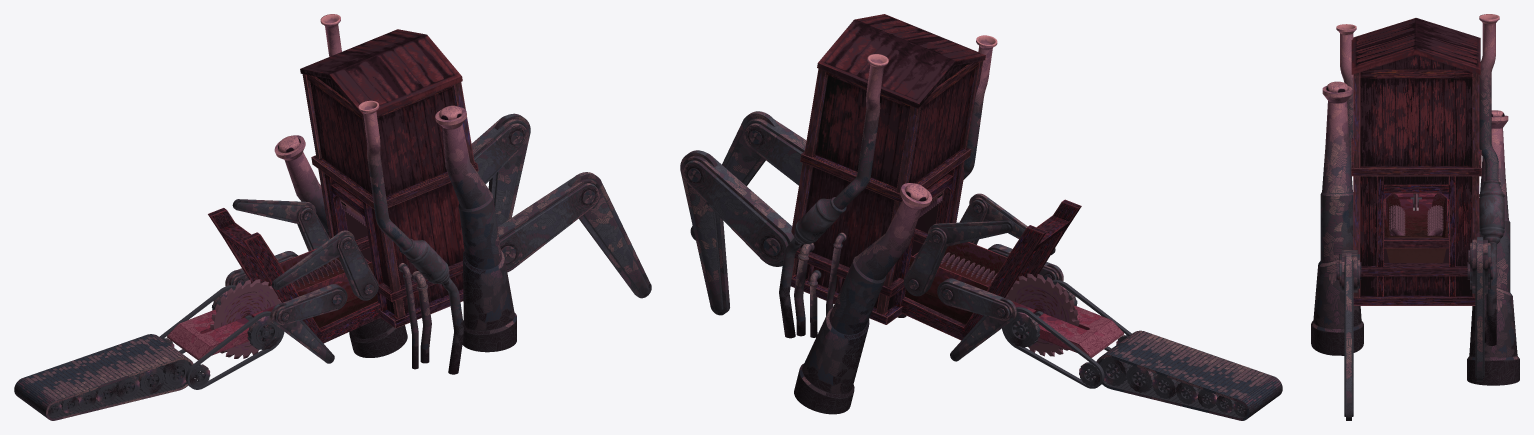
Rendered from LogMachine.fbx.
3 renders of one model, left to right at view 1: azimuth 30°, elevation 25°; view 2: azimuth 150°, elevation 25°; view 3: azimuth 270°, elevation 25°, orthographic. The views are drawn at different scales.
Parts seen in each view (by area): view 1: MachineBase, Pipe2, MachineRoof, ConveyerBelt, Pipe1.001, Tongue, Leg1, TongueArch, Pipe2.001, Leg2, MachineFloor, MachineCollumn (+16 smaller); view 2: MachineBase, Pipe2.001, MachineRoof, ConveyerBelt, Tongue, Leg1.001, Pipe1, TongueArch, MachineCollumn, MachineFloor, Leg2.001, SawBlade (+17 smaller); view 3: MachineBase, Pipe2, Pipe2.001, MachineRoof, Pipe1, MachineFloor, Tongue, MachineCollumn, MachineEntrence, MouthBase, Leg2, Leg2.001 (+4 smaller).
Boxes of the visible parts, <box> form: MachineBase: <box>310,76,464,313</box>; Pipe2: <box>435,105,516,352</box>; MachineRoof: <box>300,29,462,118</box>; ConveyerBelt: <box>14,334,193,420</box>; Pipe1.001: <box>358,100,463,374</box>; Tongue: <box>167,248,377,360</box>; Leg1: <box>497,177,600,272</box>; TongueArch: <box>208,208,381,343</box>; Pipe2.001: <box>274,135,407,357</box>; Leg2: <box>568,172,651,298</box>; MachineFloor: <box>307,75,478,328</box>; MachineCollumn: <box>302,74,474,318</box>; MachineBase: <box>795,63,974,309</box>; Pipe2.001: <box>794,183,932,414</box>; MachineRoof: <box>817,14,985,108</box>; ConveyerBelt: <box>1096,330,1282,420</box>; Tongue: <box>905,242,1123,357</box>; Leg1.001: <box>681,153,794,266</box>; Pipe1: <box>779,54,888,338</box>; TongueArch: <box>901,199,1081,340</box>; MachineCollumn: <box>791,60,983,314</box>; MachineFloor: <box>790,61,978,324</box>; Leg2.001: <box>680,150,729,315</box>; SawBlade: <box>1005,273,1079,356</box>; MachineBase: <box>1360,55,1472,295</box>; Pipe2: <box>1311,81,1363,355</box>; Pipe2.001: <box>1467,110,1519,385</box>; MachineRoof: <box>1351,18,1480,74</box>; Pipe1: <box>1479,14,1504,345</box>; MachineFloor: <box>1351,69,1481,305</box>; Tongue: <box>1384,193,1447,262</box>; MachineCollumn: <box>1353,72,1479,297</box>; MachineEntrence: <box>1377,176,1455,296</box>; MouthBase: <box>1361,235,1467,276</box>; Leg2: <box>1344,252,1353,420</box>; Leg2.001: <box>1475,237,1484,381</box>.
Size of the model in its own units: 7349 by 4134 by 2265.
21 materials, 19 textured.
